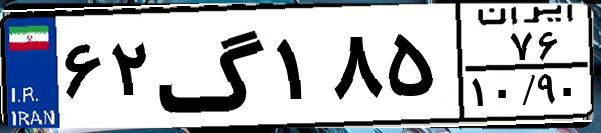0: (560, 70, 590, 125), (495, 70, 520, 125)
1: (270, 28, 330, 110), (470, 70, 495, 125)
2: (110, 28, 156, 98)
5: (385, 28, 445, 110)
6: (57, 26, 110, 100), (537, 27, 568, 80)
7: (508, 27, 537, 80)
8: (330, 28, 385, 110)
9: (535, 70, 560, 125)
گ: (156, 12, 270, 120)
